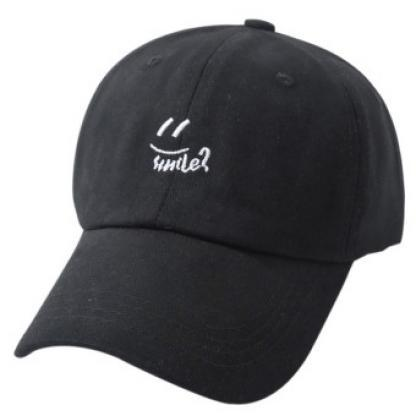cap: (10, 13, 408, 404)
